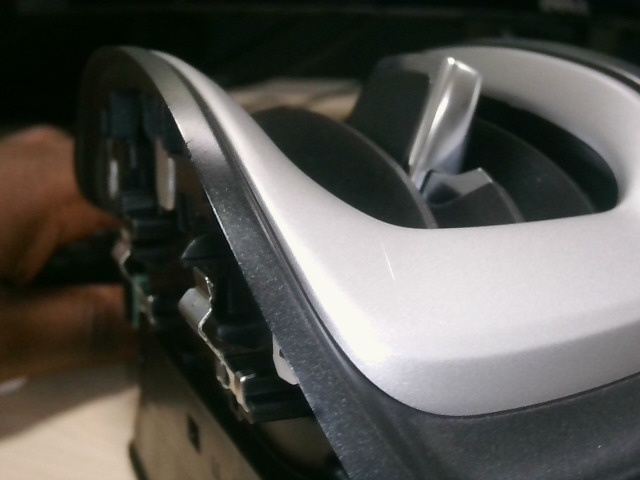NG: (375, 236, 407, 290), (182, 129, 213, 181)
